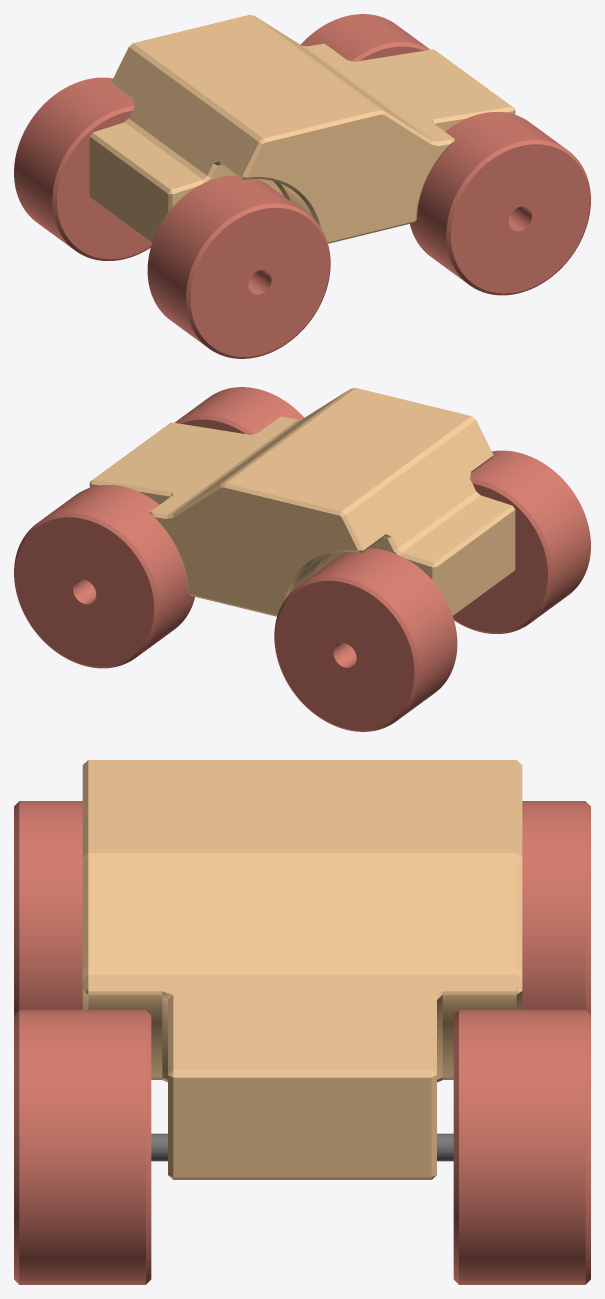
3 views of the same model, one above another, from view 1: azimuth 30°, elevation 25°; view 2: azimuth 150°, elevation 25°; view 3: azimuth 270°, elevation 25° (orthographic). The views are drawn at different scales.
Parts seen in each view (by area): view 1: out-chassis, out-rear_axle-left_wheel, out-front_axle-left_wheel, out-rear_axle-right_wheel, out-front_axle-right_wheel; view 2: out-chassis, out-rear_axle-right_wheel, out-front_axle-right_wheel, out-rear_axle-left_wheel, out-front_axle-left_wheel; view 3: out-chassis, out-front_axle-left_wheel, out-front_axle-right_wheel, out-rear_axle-left_wheel, out-rear_axle-right_wheel, out-front_axle-axle.
Boxes of the visible parts, <box> form: out-chassis: <box>89,15,515,243</box>; out-rear_axle-left_wheel: <box>147,175,330,358</box>; out-front_axle-left_wheel: <box>410,112,590,295</box>; out-rear_axle-right_wheel: <box>14,77,151,260</box>; out-front_axle-right_wheel: <box>300,14,430,61</box>; out-chassis: <box>89,388,515,616</box>; out-rear_axle-right_wheel: <box>274,548,457,731</box>; out-front_axle-right_wheel: <box>14,485,194,668</box>; out-rear_axle-left_wheel: <box>453,450,590,633</box>; out-front_axle-left_wheel: <box>174,387,304,434</box>; out-chassis: <box>82,760,522,1179</box>; out-front_axle-left_wheel: <box>14,1010,151,1284</box>; out-front_axle-right_wheel: <box>453,1010,590,1284</box>; out-rear_axle-left_wheel: <box>14,801,82,1014</box>; out-rear_axle-right_wheel: <box>522,801,590,1014</box>; out-front_axle-axle: <box>151,1133,453,1161</box>.
Bounding box in the file's own units: 0.14 × 0.065 × 0.105.
